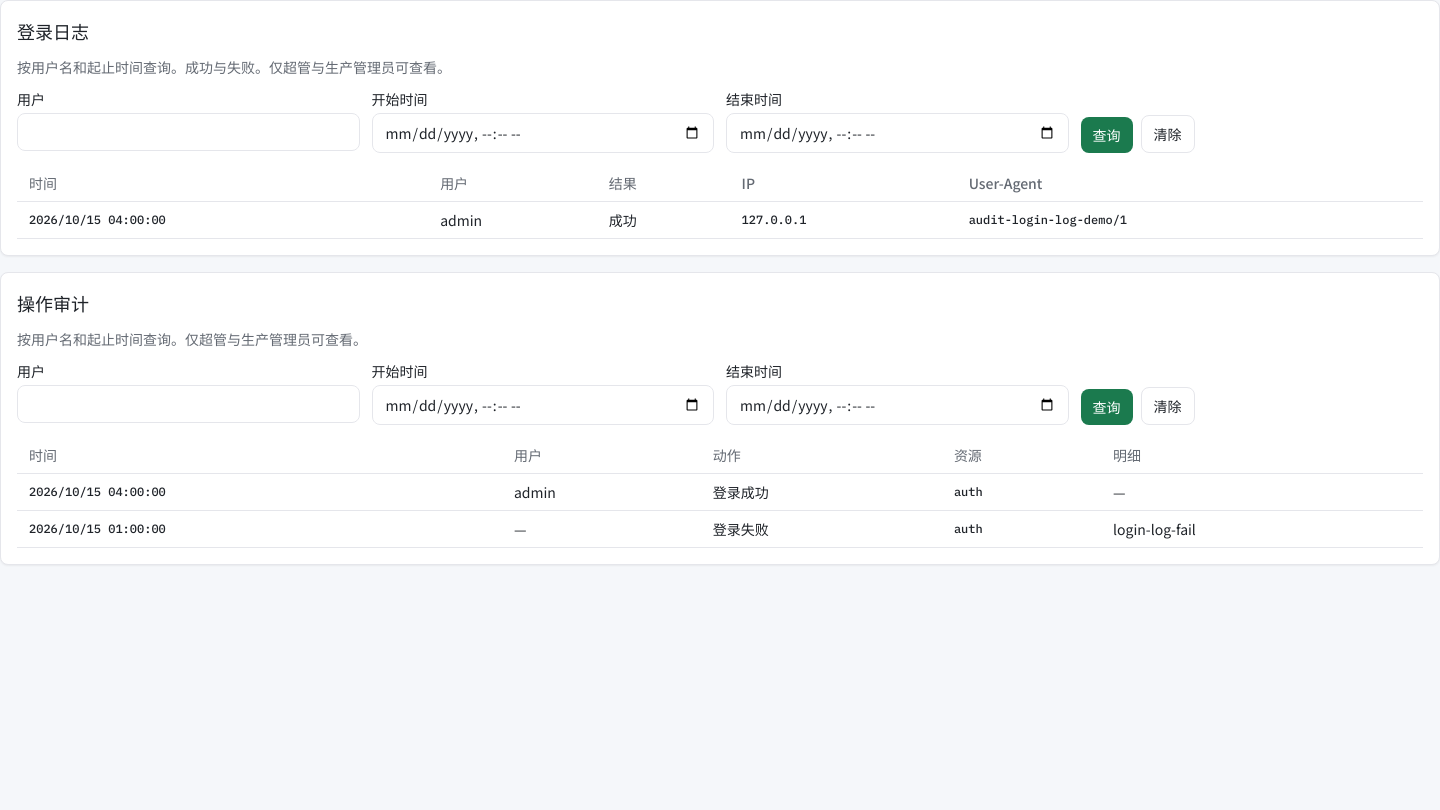
AuditView › drops the operation-audit table when the start is after the end
Check: the table with test id "audit-log-table" is shown, box x1=17 y1=437 x2=1423 y2=548
Type "2026-10-15T18:00" into the field with test id "audit-log-from" at (543, 405), box x1=372 y1=385 x2=714 y2=425
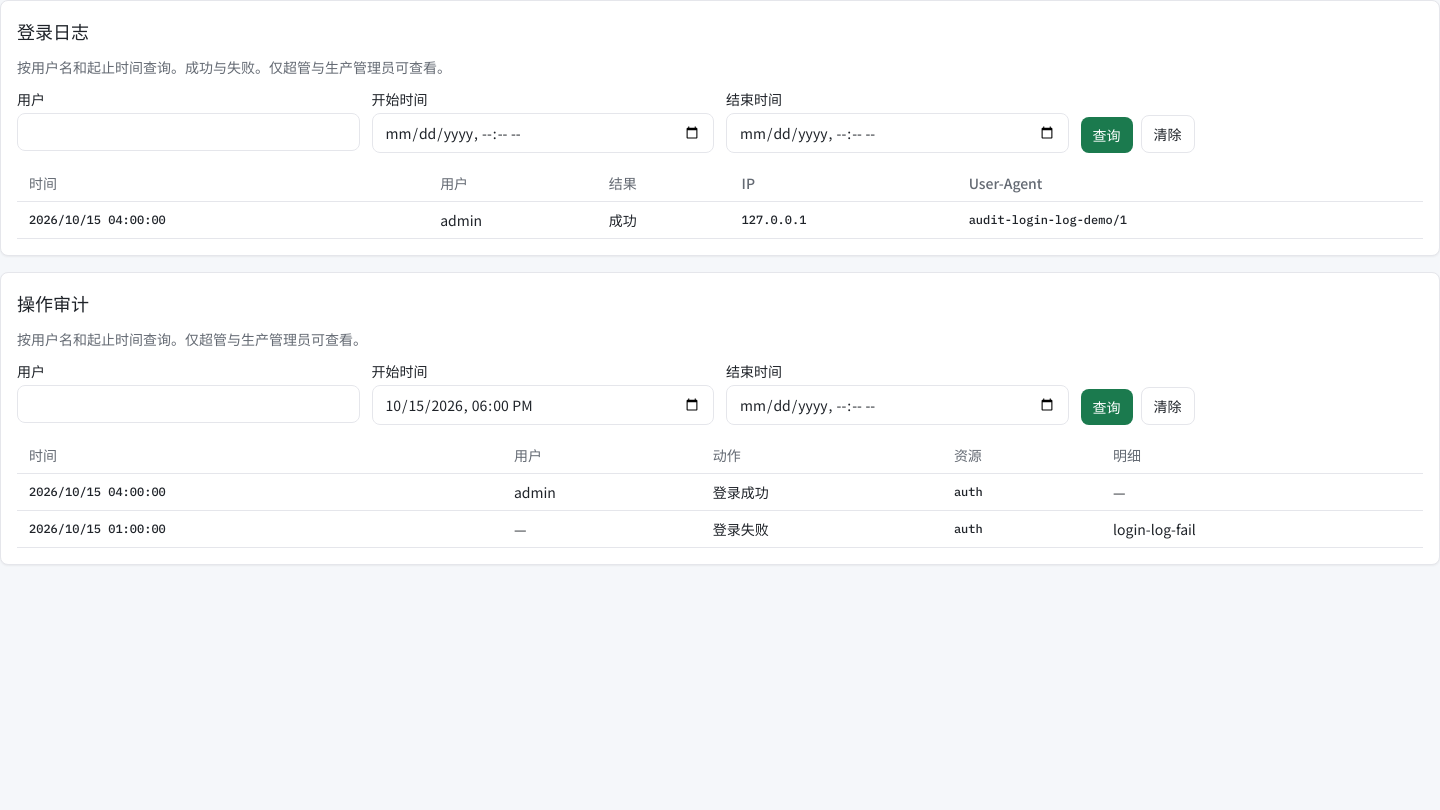
Type "2026-10-15T08:00" into the field with test id "audit-log-to" at (897, 405), box x1=726 y1=385 x2=1068 y2=425
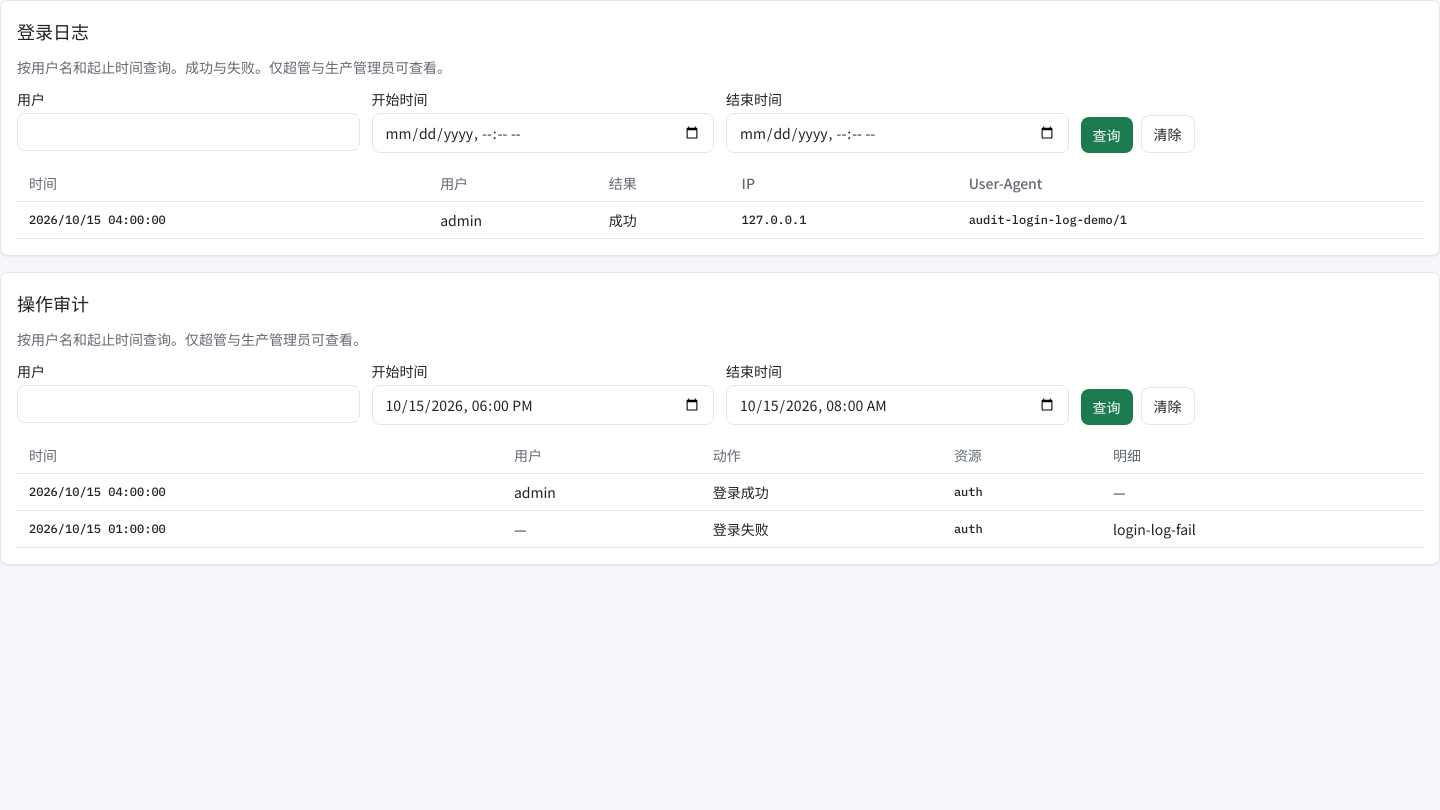
Submit the form with test id "audit-log-filters", box x1=17 y1=361 x2=1194 y2=425
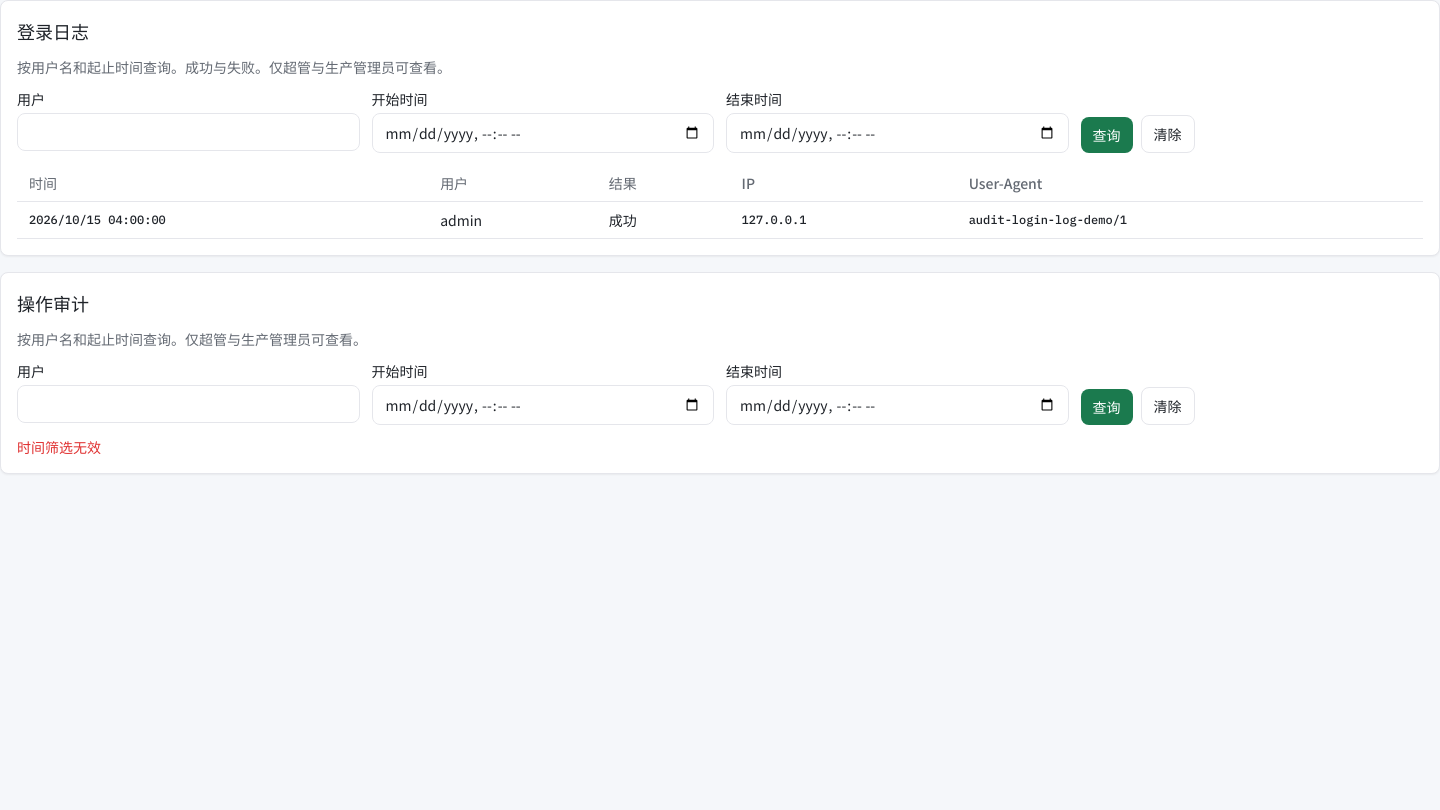
Check: the table with test id "login-log-table" shows "成功", box x1=609 y1=210 x2=637 y2=230
Check: the text with test id "audit-log-time-error" reads "时间筛选无效", box x1=17 y1=437 x2=101 y2=457
